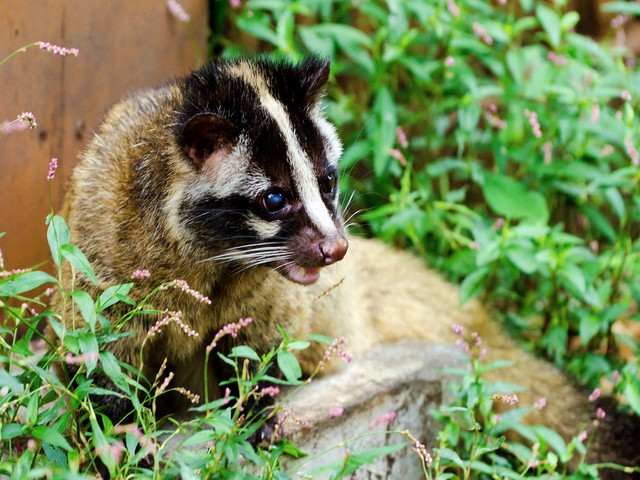civet: (63, 52, 522, 381)
